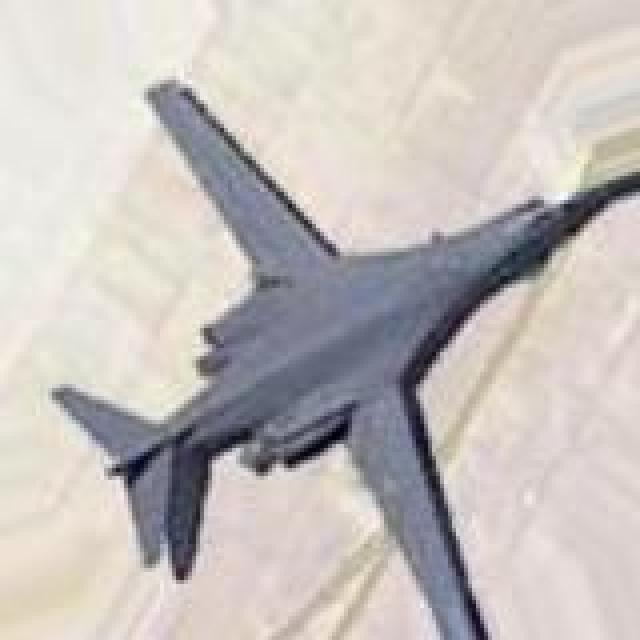B-1_TopDown: (44, 72, 636, 636)
